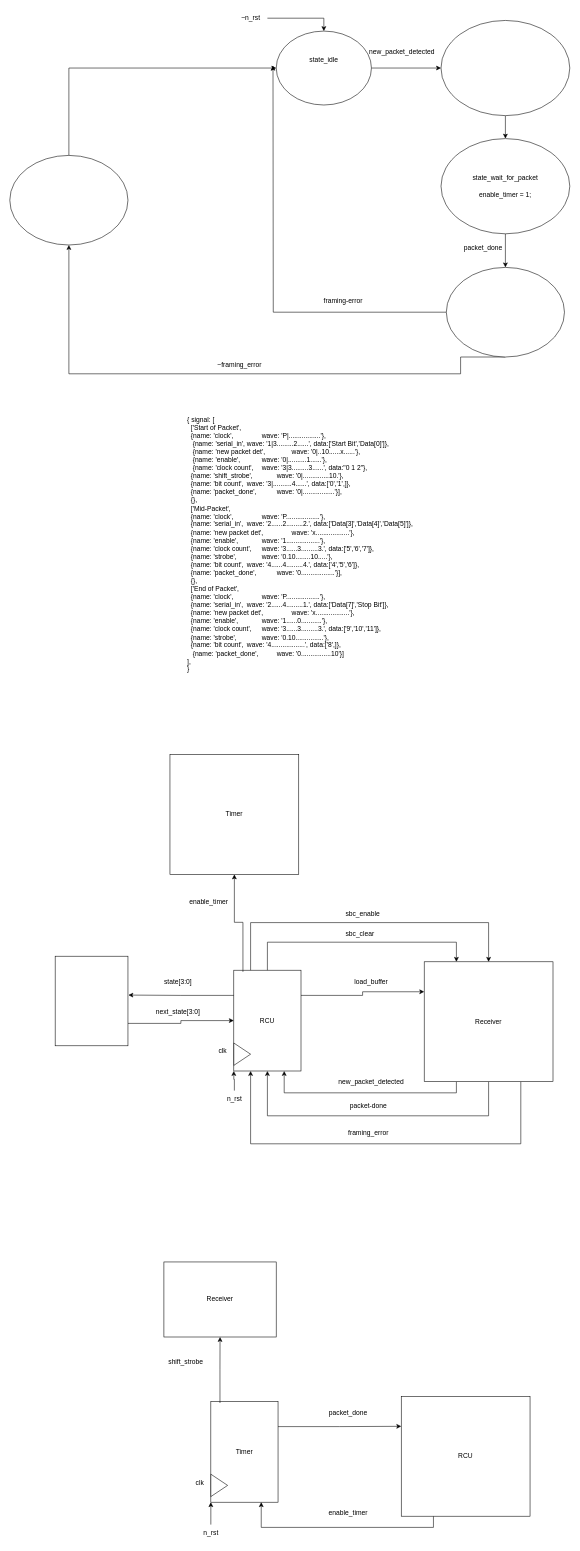
Image size: 580x1551. Some labels were removed from this diagram. Each missing label, with the centre of its shape:
"Next_State Logic per State Transition Diagram" goes at pixel 91 1001.
"state_clear_packet sbc_clear = 1;" goes at pixel 505 68.
"state_load_buffer load_buffer = 1;" goes at pixel 68 200.
"state_process_packet sbc_enable = 1;" goes at pixel 505 312.
